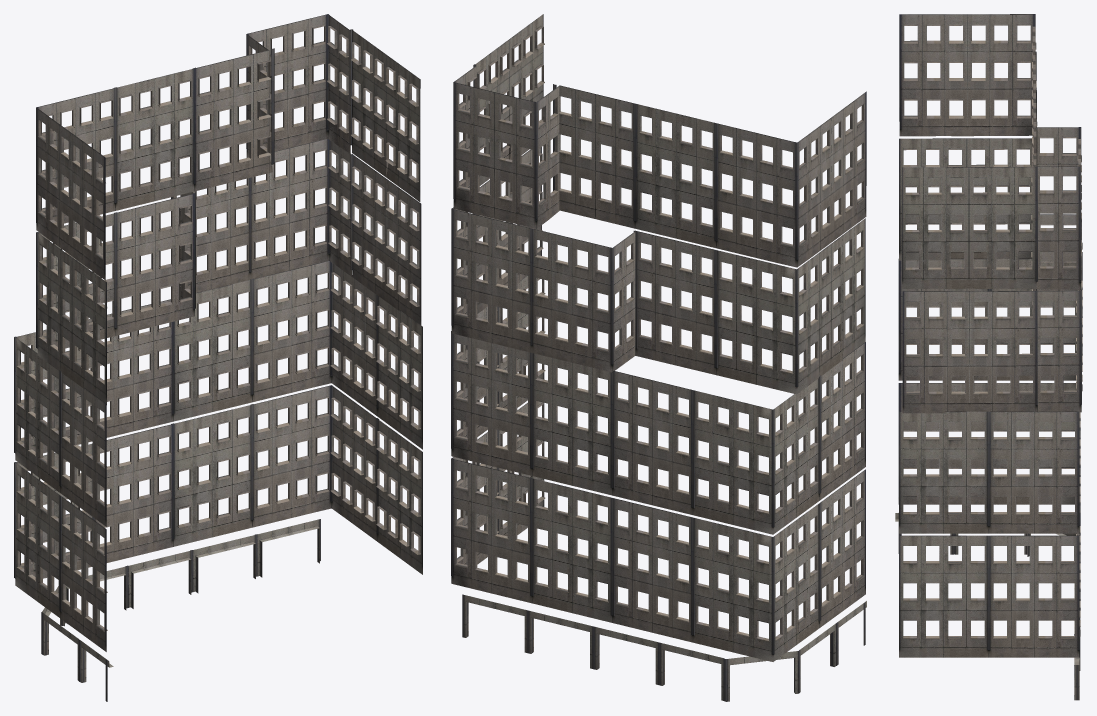
The model's file is u2SEBuild1.gltf.
3 views of the same model, side by side, from view 1: azimuth 30°, elevation 25°; view 2: azimuth 150°, elevation 25°; view 3: azimuth 270°, elevation 25° (orthographic). The views are drawn at different scales.
Parts seen in each view (by area): view 1: u2SEBuild1; view 2: u2SEBuild1; view 3: u2SEBuild1.
Boxes of the visible parts, bbox=[...] form: u2SEBuild1: bbox=[14, 14, 422, 701]; u2SEBuild1: bbox=[451, 14, 866, 701]; u2SEBuild1: bbox=[895, 14, 1082, 700].
Bounding box in the file's own units: 10.95 × 17.84 × 5.61.
Materials: 1 (1 with a texture image).
